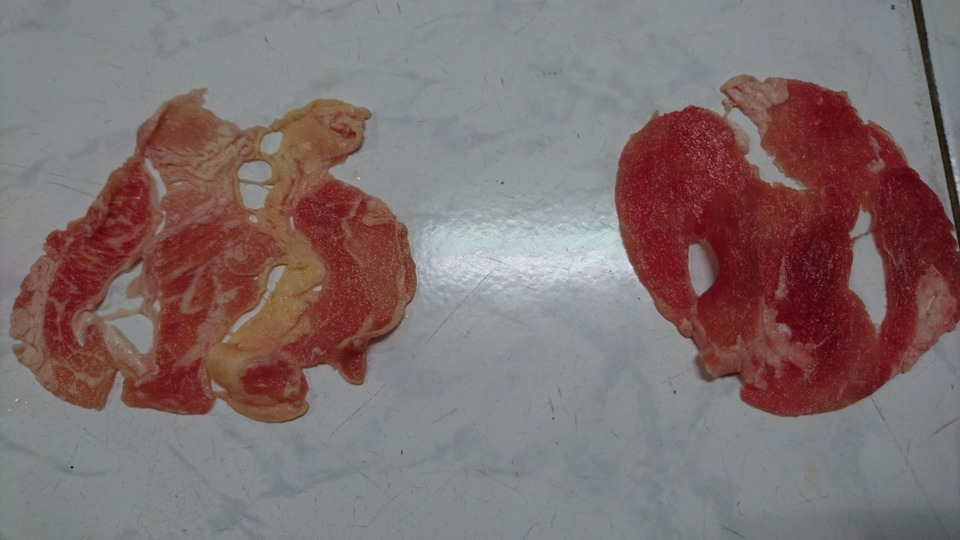restructured meat: (12, 89, 421, 425), (601, 80, 958, 409)
